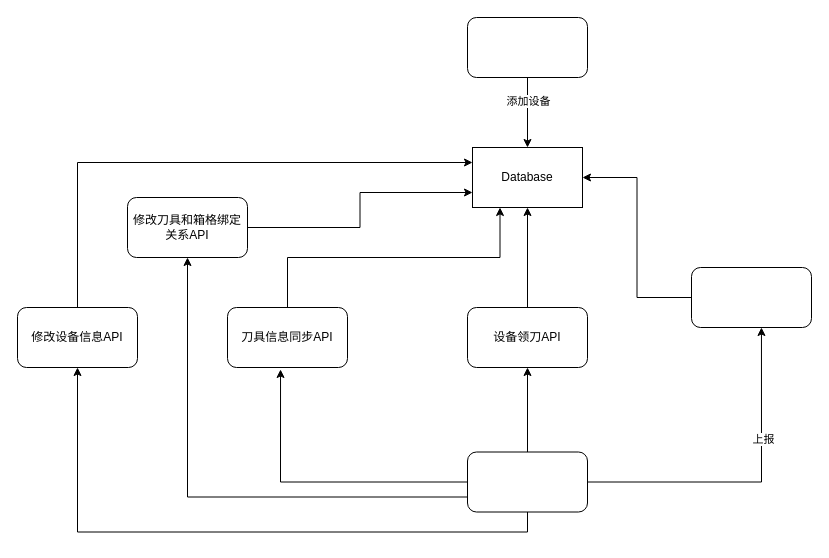
Image size: 829x558. Some labels were removed from this diagram. The centre of each missing label's shape, as x and y in pixels:
"后台" goes at (527,47).
"获取工单API" goes at (751,297).
"设备" goes at (527,481).
